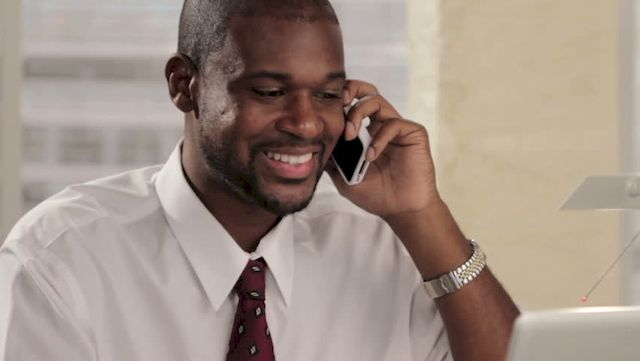phone: (324, 69, 383, 200)
talk: (204, 64, 436, 216)
